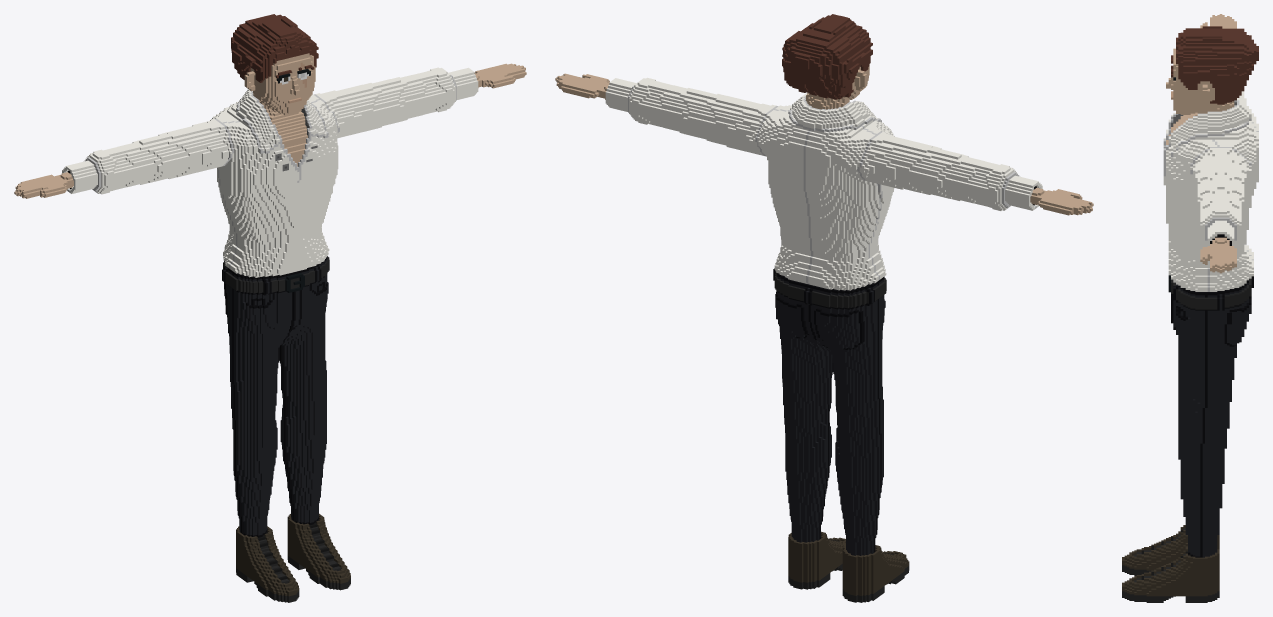
File: VoxelCharacterModel-0-Character.obj
3 views of the same model, side by side, from view 1: azimuth 30°, elevation 25°; view 2: azimuth 150°, elevation 25°; view 3: azimuth 270°, elevation 25° (orthographic). The views are drawn at different scales.
Parts seen in each view (by area): view 1: Character; view 2: Character; view 3: Character.
Part boxes in pixels (x1,y1,x2,y2): Character: (14,14,526,602); Character: (555,14,1093,602); Character: (1122,14,1258,602).
Bounding box in the file's own units: 24.7 × 24.9 × 5.6.
